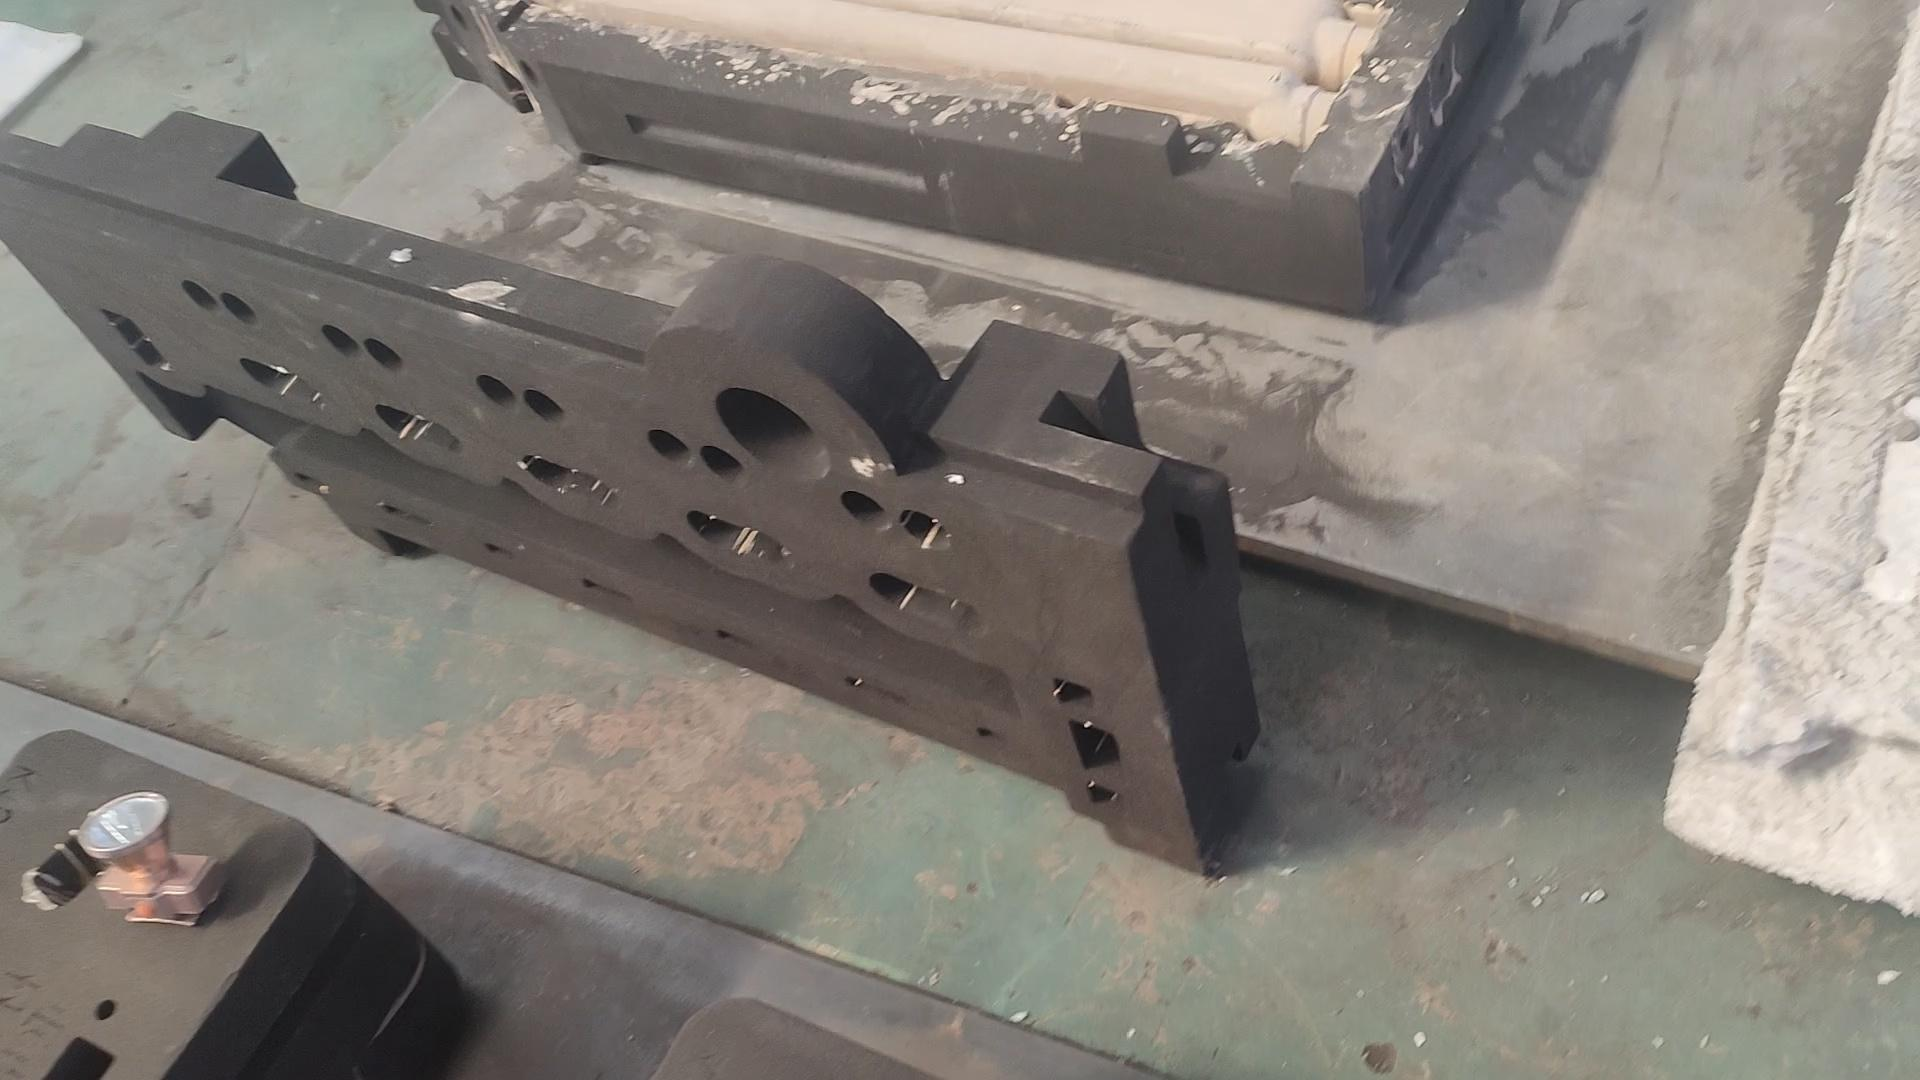pouring hole: (717, 388, 827, 479)
